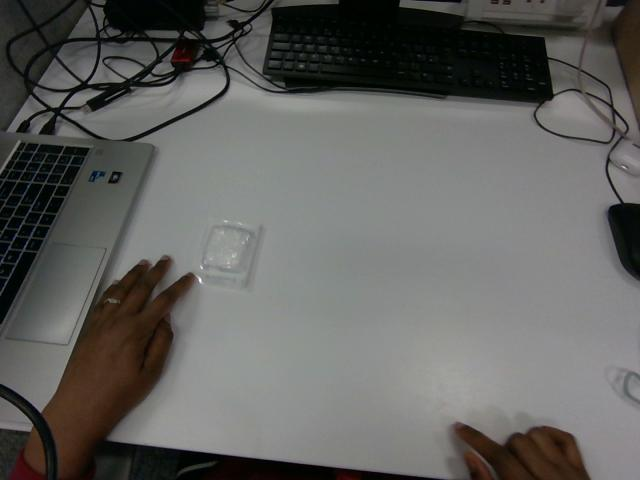gauze: (197, 221, 261, 288)
